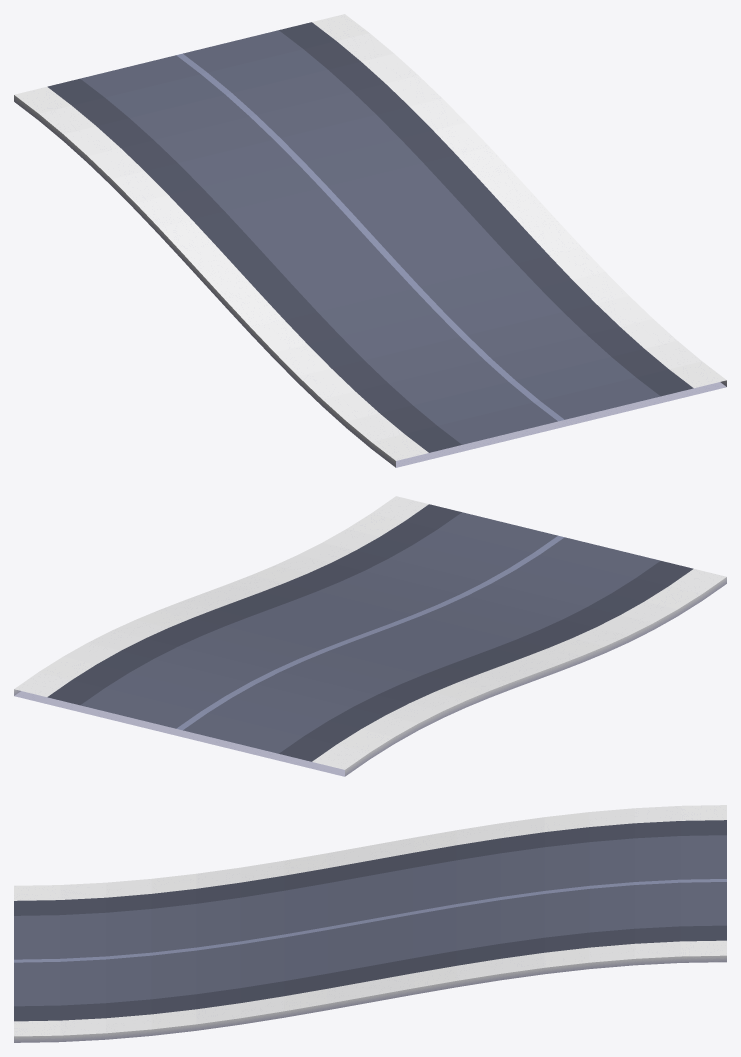
File: road-Straight-Flat-Flat-Up1-Center-Size2.glb
3 renders of one model, top to bottom at view 1: azimuth 30°, elevation 25°; view 2: azimuth 150°, elevation 25°; view 3: azimuth 270°, elevation 25°, orthographic. The views are drawn at different scales.
Parts seen in each view (by area): view 1: road-Straight-Flat-Flat-Up1-Center-Size2; view 2: road-Straight-Flat-Flat-Up1-Center-Size2; view 3: road-Straight-Flat-Flat-Up1-Center-Size2.
Boxes of the visible parts, x1,y1,x2,y2 form: road-Straight-Flat-Flat-Up1-Center-Size2: [14, 14, 726, 467]; road-Straight-Flat-Flat-Up1-Center-Size2: [14, 496, 726, 776]; road-Straight-Flat-Flat-Up1-Center-Size2: [14, 805, 726, 1042].
Size of the model in its own units: 1 by 0.27 by 2.
1 material, 1 textured.
